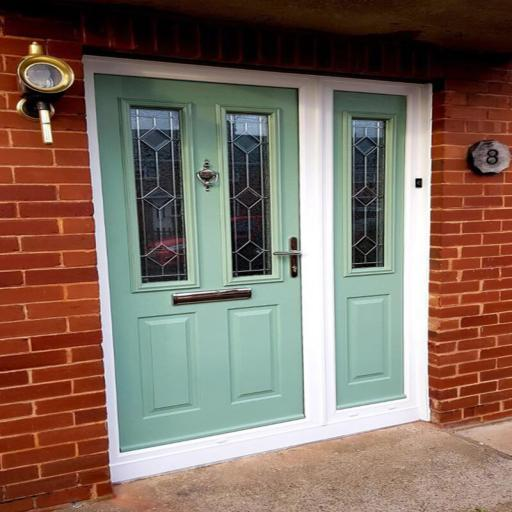Door: (82, 54, 432, 484)
